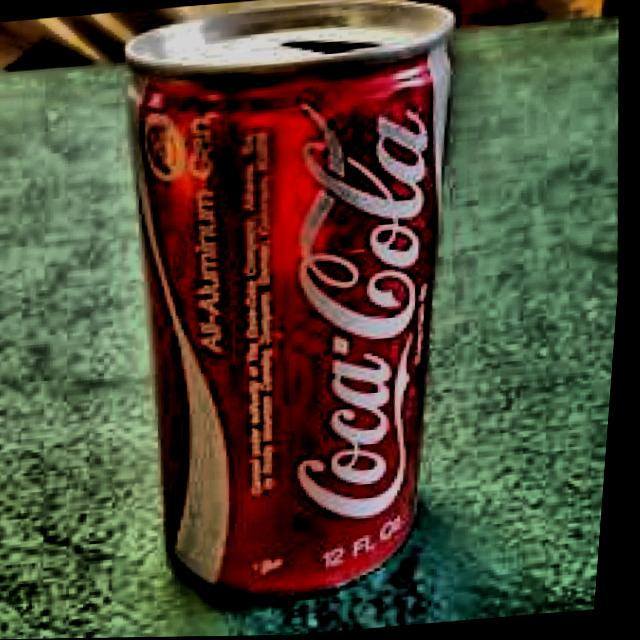Cans: (94, 0, 503, 624)
